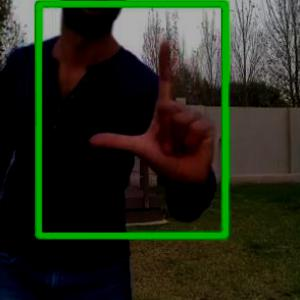land_hand: (89, 38, 217, 184)
